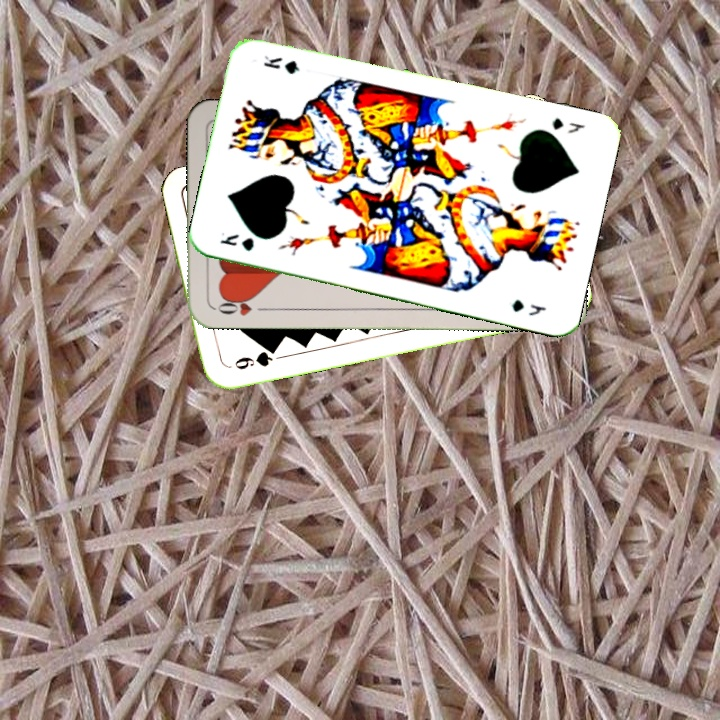G9: (230, 344, 280, 372)
GK: (216, 230, 257, 254), (548, 113, 587, 136)
HO: (211, 293, 270, 318)
